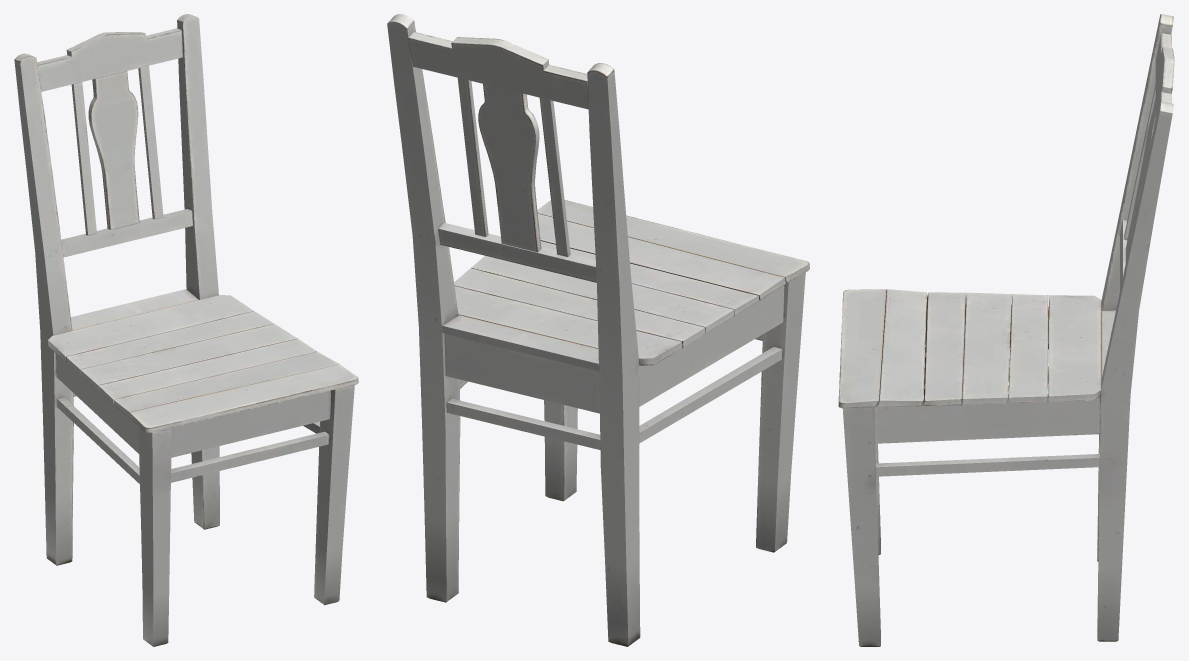
The model's file is yardprop_painted_wooden_chair_01.glb.
3 views of the same model, side by side, from view 1: azimuth 30°, elevation 25°; view 2: azimuth 150°, elevation 25°; view 3: azimuth 270°, elevation 25° (orthographic). The views are drawn at different scales.
Visible parts, largest first — view 1: painted_wooden_chair_01; view 2: painted_wooden_chair_01; view 3: painted_wooden_chair_01.
Part boxes in pixels (x1,y1,x2,y2): painted_wooden_chair_01: (14, 14, 358, 646); painted_wooden_chair_01: (387, 14, 809, 646); painted_wooden_chair_01: (838, 14, 1174, 646).
Size of the model in its own units: 0.4317 by 0.9565 by 0.5398.
Materials: 1 (1 with a texture image).
